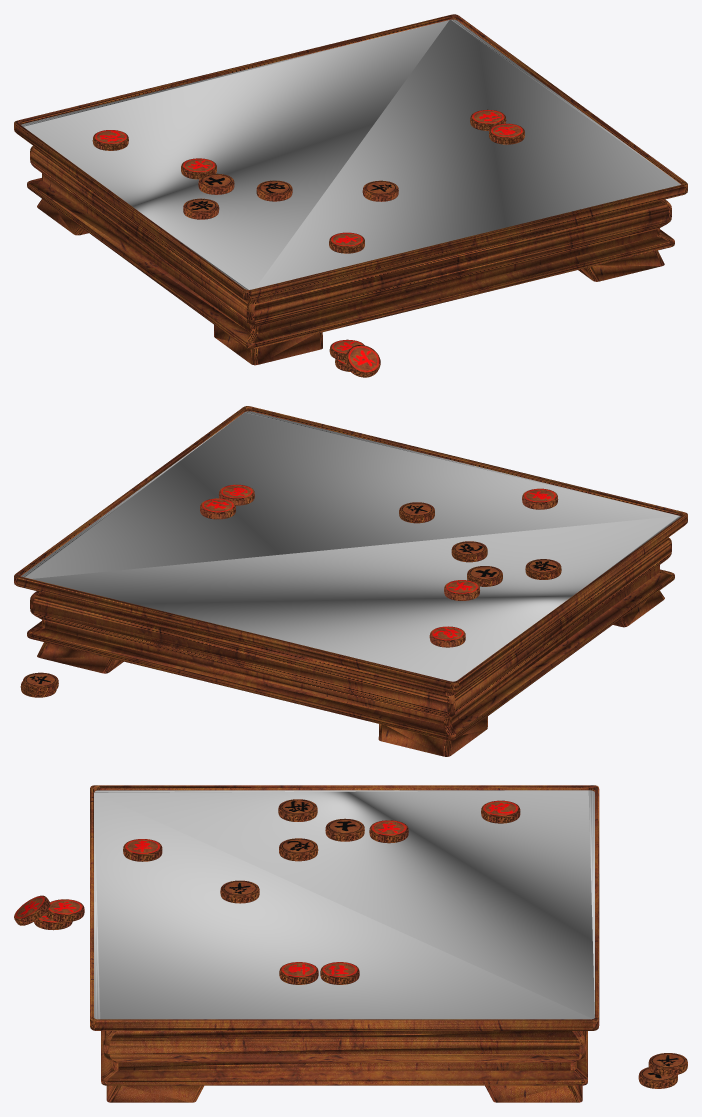
The model's file is ChineseChess.fbx.
3 views of the same model, one above another, from view 1: azimuth 30°, elevation 25°; view 2: azimuth 150°, elevation 25°; view 3: azimuth 270°, elevation 25° (orthographic). The views are drawn at different scales.
Visible parts, largest first — view 1: QiPan; view 2: QiPan; view 3: QiPan.
Part boxes in pixels (x1,y1,x2,y2): QiPan: (14, 14, 687, 377); QiPan: (14, 406, 687, 756); QiPan: (14, 785, 687, 1102).
Size of the model in its own units: 116 by 21.75 by 140.
